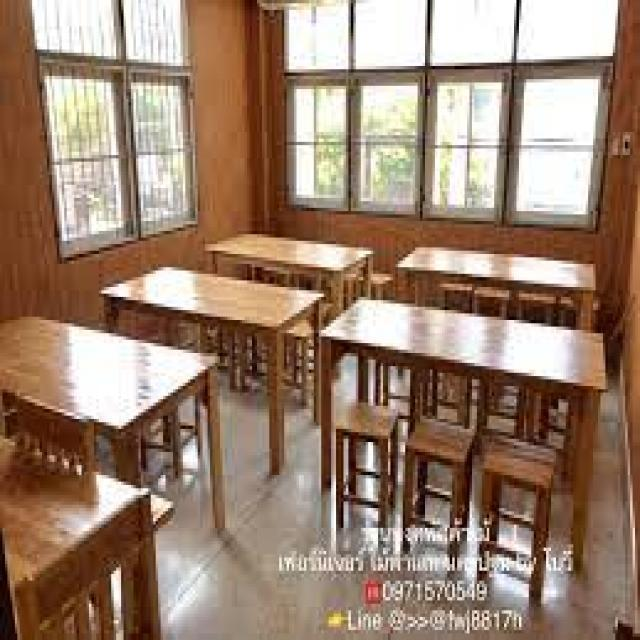table: (324, 286, 610, 412), (395, 219, 605, 316), (97, 255, 311, 338)
